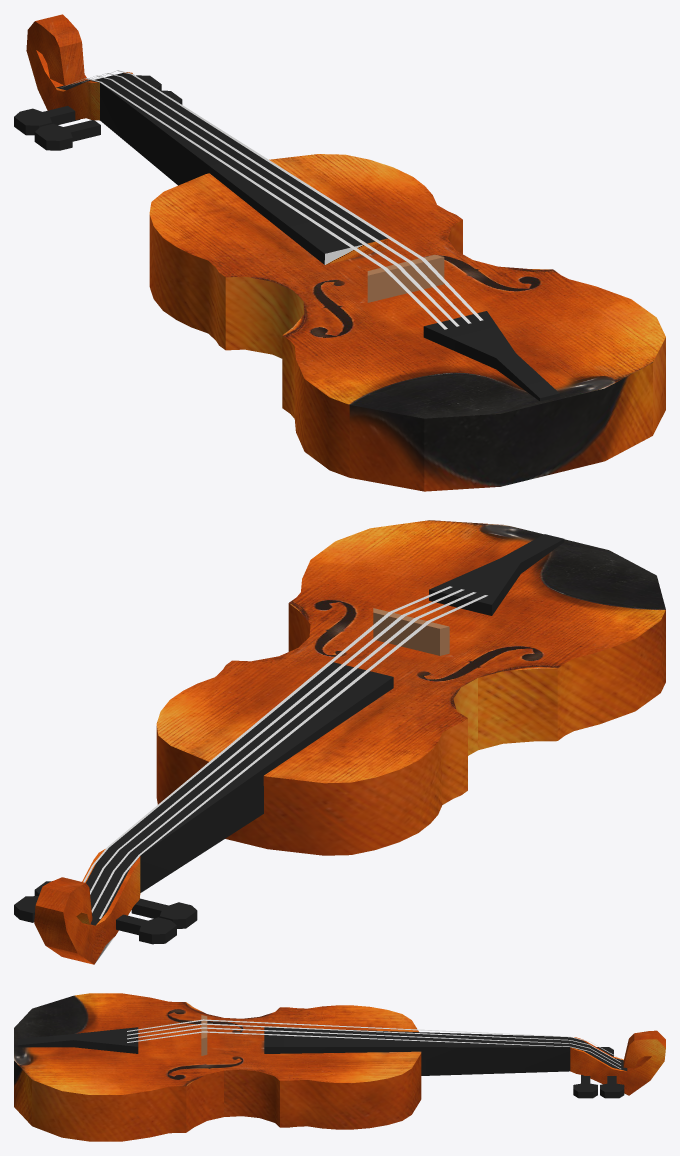
Rendered from violin.glb.
The picture shows the model from 3 angles, top to bottom: view 1: azimuth 30°, elevation 25°; view 2: azimuth 150°, elevation 25°; view 3: azimuth 270°, elevation 25°; orthographic projection. The views are drawn at different scales.
Visible parts, largest first — view 1: violin, strings, pin.003, pin.002; view 2: violin, strings, pin.002, pin.003; view 3: violin, strings, pin, pin.001.
Boxes of the visible parts, x1,y1,x2,y2 form: violin: (26, 14, 665, 491); strings: (61, 70, 483, 329); pin.003: (34, 120, 100, 150); pin.002: (14, 106, 79, 135); violin: (34, 520, 665, 964); strings: (83, 586, 487, 918); pin.002: (116, 914, 176, 944); pin.003: (131, 898, 197, 928); violin: (14, 993, 665, 1141); strings: (127, 1019, 621, 1068); pin: (573, 1075, 597, 1098); pin.001: (600, 1076, 624, 1098).
Bounding box in the file's own units: 0.3023 × 0.0896 × 0.8178.
4 materials, 1 textured.
